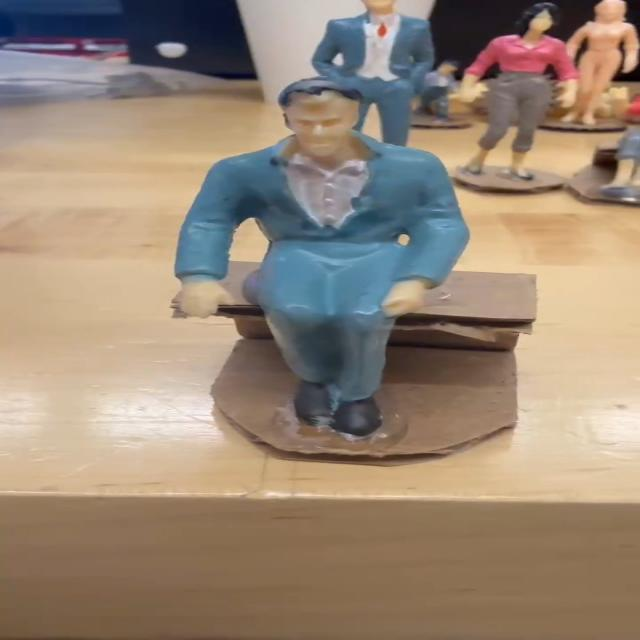Authorized: (144, 65, 483, 441)
